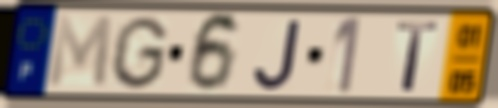1: (329, 13, 363, 98)
6: (182, 10, 245, 98)
G: (107, 14, 172, 92)
J: (252, 17, 305, 93)
M: (45, 12, 116, 91)
T: (394, 20, 442, 94)
